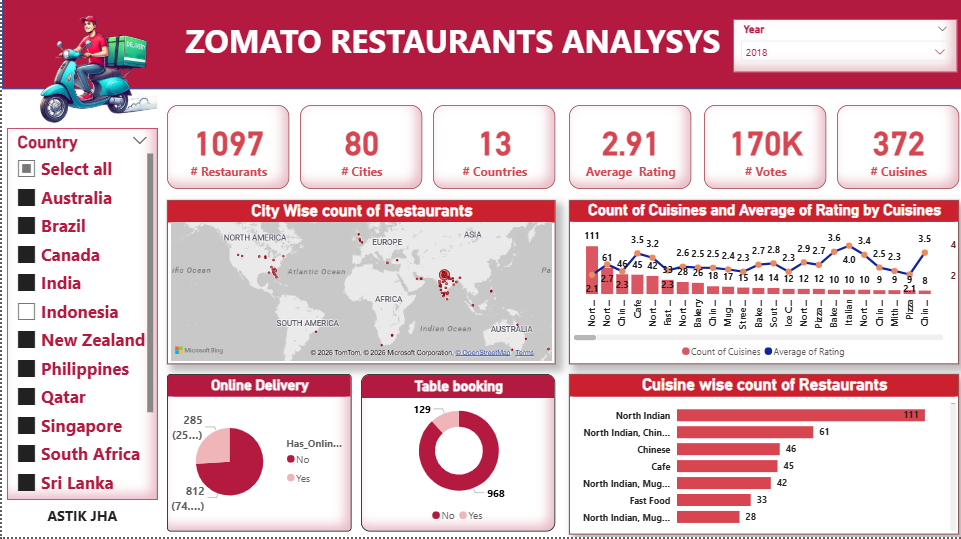

This screenshot's page, from the dashboard's own definition file:
{"tool":"powerbi","page":{"name":"Dashboard","canvas":[1280,720],"ordinal":0},"visuals":[{"type":"shape","box":[0,0,1280.4,122.9],"z":0},{"type":"image","box":[0,0,240.2,183.5],"z":1000},{"type":"textbox","box":[220,24.3,762.1,76],"z":2000},{"type":"card","fields":{"Values":["Count(restaurants.RestaurantID)"]},"box":[219.4,143.7,162.6,111.6],"z":3000},{"type":"card","fields":{"Values":["Count(restaurants.City)"]},"box":[397.2,143.7,162.6,111.6],"z":4000},{"type":"card","fields":{"Values":["Count(restaurants.CountryCode)"]},"box":[574.9,143.7,162.6,111.6],"z":5000},{"type":"card","fields":{"Values":["Avg(restaurants.Rating)"]},"box":[756.5,143.7,162.6,111.6],"z":6000},{"type":"card","fields":{"Values":["Sum(restaurants.Votes)"]},"box":[936.2,143.7,162.6,111.6],"z":7000},{"type":"card","fields":{"Values":["Count(restaurants.Cuisines)"]},"box":[1114,143.7,162.6,111.6],"z":8000},{"type":"slicer","fields":{"Values":["countries.country name"]},"box":[7.3,174.5,200.7,496],"z":9000},{"type":"lineStackedColumnComboChart","fields":{"Y":["CountNonNull(restaurants.Cuisines)"],"Category":["restaurants.Cuisines"],"Y2":["Avg(restaurants.Rating)"]},"box":[756.5,270.5,520.1,219.4],"z":10000},{"type":"map","title":"City Wise count of Restaurants","fields":{"Size":["CountNonNull(restaurants.RestaurantID)"],"Category":["restaurants.City"]},"box":[219.4,270.5,518.2,219.4],"z":11000},{"type":"clusteredBarChart","title":"Cuisine wise count of Restaurants","fields":{"Category":["restaurants.Cuisines"],"Y":["CountNonNull(restaurants.RestaurantID)"]},"box":[756.5,503.1,520.1,213.7],"z":12000},{"type":"pieChart","title":"Online Delivery","fields":{"Category":["restaurants.Has_Online_delivery"],"Y":["CountNonNull(restaurants.RestaurantID)"]},"box":[219.4,503.1,245.9,209.9],"z":13000},{"type":"donutChart","title":"Table booking ","fields":{"Category":["restaurants.Has_Table_booking"],"Y":["CountNonNull(restaurants.RestaurantID)"]},"box":[478.5,503.1,259.1,209.9],"z":14000},{"type":"slicer","fields":{"Values":["restaurants.Datekey_Opening.Variation.Date Hierarchy.Year"]},"box":[974,29.1,299.3,71.2],"z":15000},{"type":"textbox","box":[7.3,673.5,200.7,39.3],"z":16000}]}

Visuals, with their boxes in screenshot pixels (x1, y1, x2, y2), scaled from the page's 1280x720 canvas onto the 961x539 screenshot:
shape: 0 0 960 92
image: 0 0 180 137
textbox: 165 18 737 75
card - Count(restaurants.RestaurantID): 165 108 287 191
card - Count(restaurants.City): 298 108 420 191
card - Count(restaurants.CountryCode): 432 108 554 191
card - Avg(restaurants.Rating): 568 108 690 191
card - Sum(restaurants.Votes): 703 108 825 191
card - Count(restaurants.Cuisines): 836 108 958 191
slicer - countries.country name: 5 131 156 502
lineStackedColumnComboChart - CountNonNull(restaurants.Cuisines) x restaurants.Cuisines: 568 202 958 367
"City Wise count of Restaurants" map: 165 202 554 367
"Cuisine wise count of Restaurants" clusteredBarChart: 568 377 958 537
"Online Delivery" pieChart: 165 377 349 534
"Table booking " donutChart: 359 377 554 534
slicer - restaurants.Datekey_Opening.Variation.Date Hierarchy.Year: 731 22 956 75
textbox: 5 504 156 534
